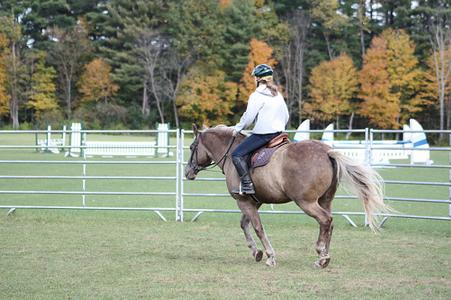person: (231, 64, 292, 197)
